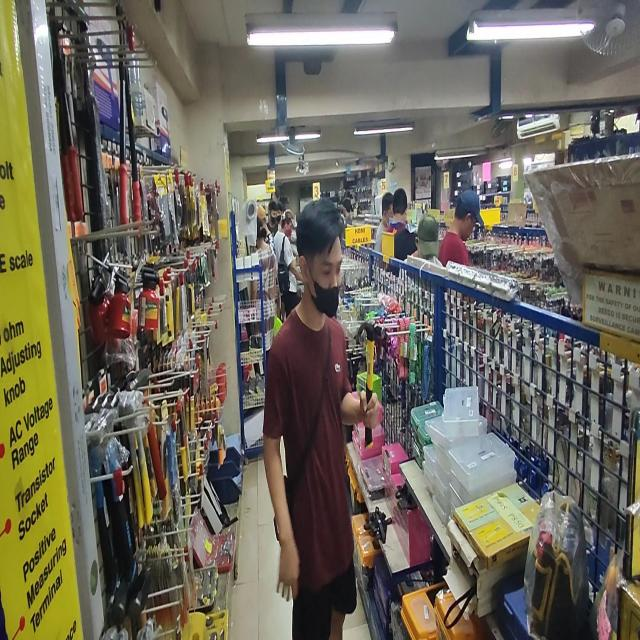hammer: (358, 322, 385, 448)
